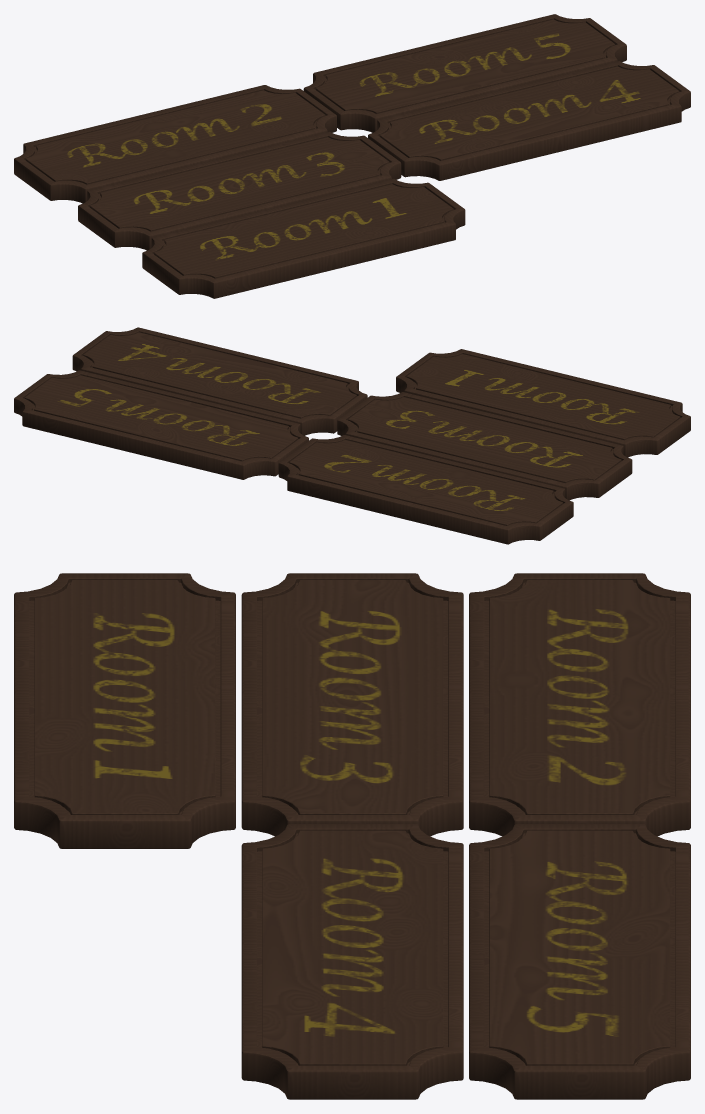
The model's file is RoomSigns.fbx.
The picture shows the model from 3 angles, top to bottom: view 1: azimuth 30°, elevation 25°; view 2: azimuth 150°, elevation 25°; view 3: azimuth 270°, elevation 25°; orthographic projection. The views are drawn at different scales.
Parts seen in each view (by area): view 1: Cube.004, Cube.002, Cube.001, Cube, Cube.003; view 2: Cube, Cube.003, Cube.004, Cube.001, Cube.002; view 3: Cube.002, Cube.003, Cube.004, Cube.001, Cube.
Part boxes in pixels (<box>): Cube.004: <box>142,179,465,298</box>; Cube.002: <box>368,61,690,180</box>; Cube.001: <box>78,131,401,250</box>; Cube: <box>14,85,336,203</box>; Cube.003: <box>303,14,626,132</box>; Cube: <box>278,435,573,544</box>; Cube.003: <box>14,370,308,479</box>; Cube.004: <box>396,349,690,457</box>; Cube.001: <box>337,392,632,500</box>; Cube.002: <box>72,327,367,435</box>; Cube.002: <box>241,824,463,1099</box>; Cube.003: <box>469,824,690,1099</box>; Cube.004: <box>14,573,235,848</box>; Cube.001: <box>241,573,463,836</box>; Cube: <box>469,573,690,836</box>.
Size of the model in its own units: 163 by 4.45 by 93.79.
